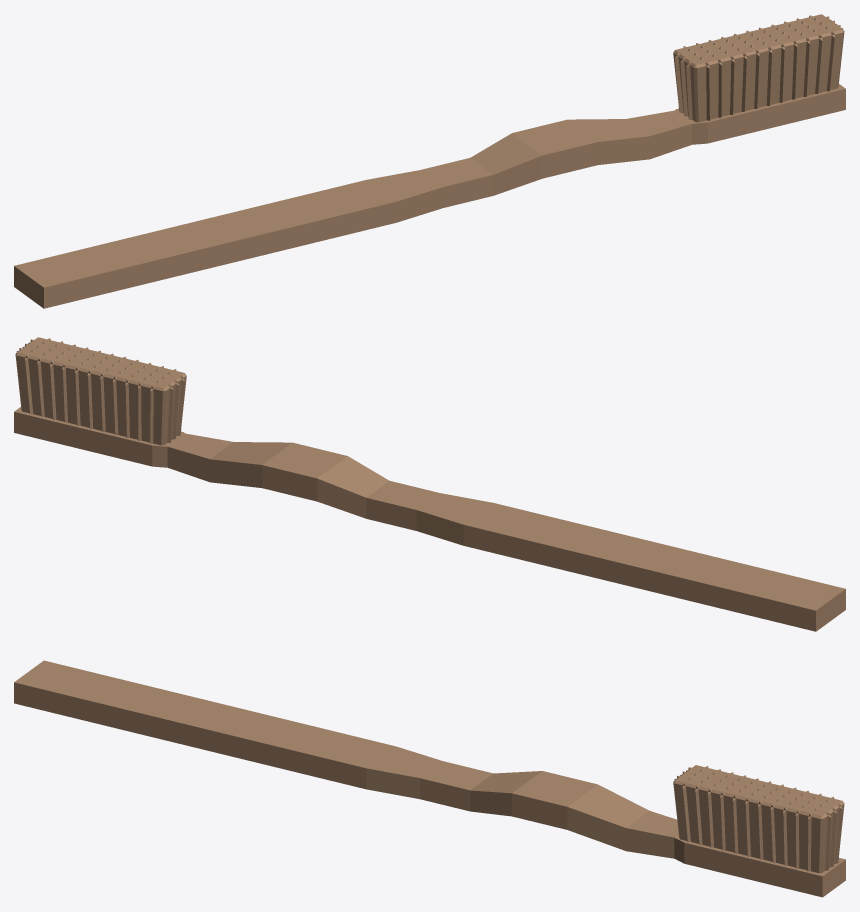
The model's file is tipo7.fbx.
The picture shows the model from 3 angles, top to bottom: view 1: azimuth 30°, elevation 25°; view 2: azimuth 150°, elevation 25°; view 3: azimuth 330°, elevation 25°; orthographic projection.
Parts seen in each view (by area): view 1: Escova_Tipo7_1; view 2: Escova_Tipo7_1; view 3: Escova_Tipo7_1.
Boxes of the visible parts, x1=… form: Escova_Tipo7_1: x1=14, y1=14, x2=845, y2=308; Escova_Tipo7_1: x1=14, y1=337, x2=845, y2=631; Escova_Tipo7_1: x1=14, y1=660, x2=845, y2=897.
Bounding box in the file's own units: 2.01 × 0.1985 × 0.1318.
